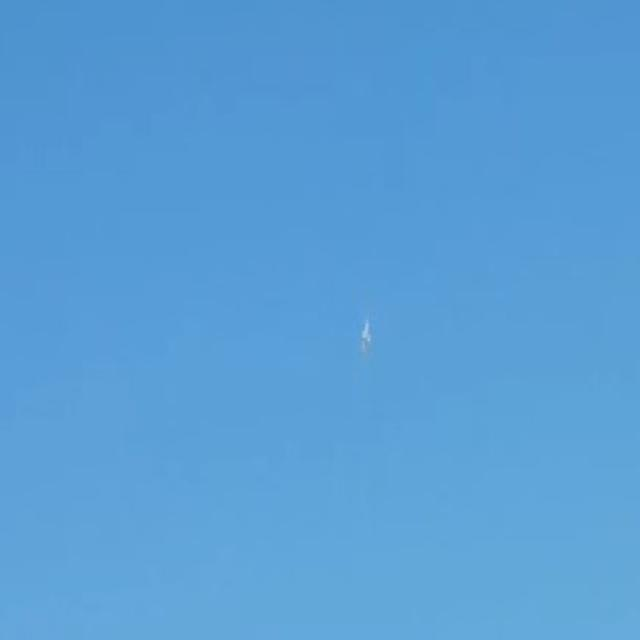iha: (363, 321, 368, 352)
